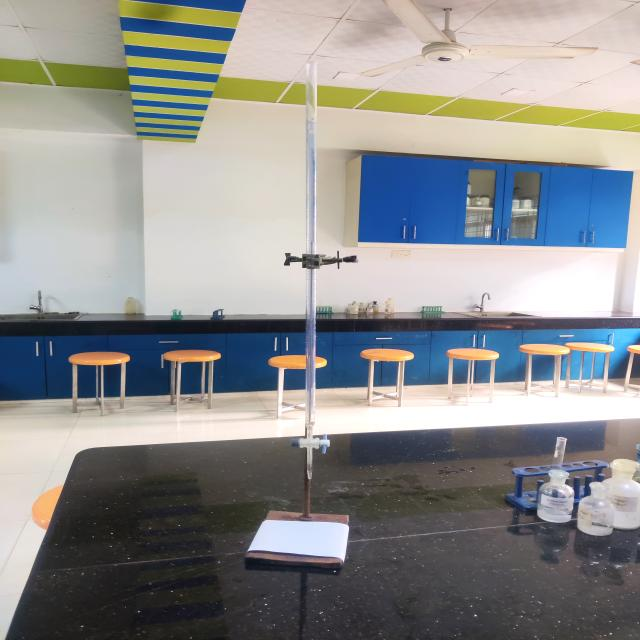Burette_Stands: (220, 238, 403, 594)
